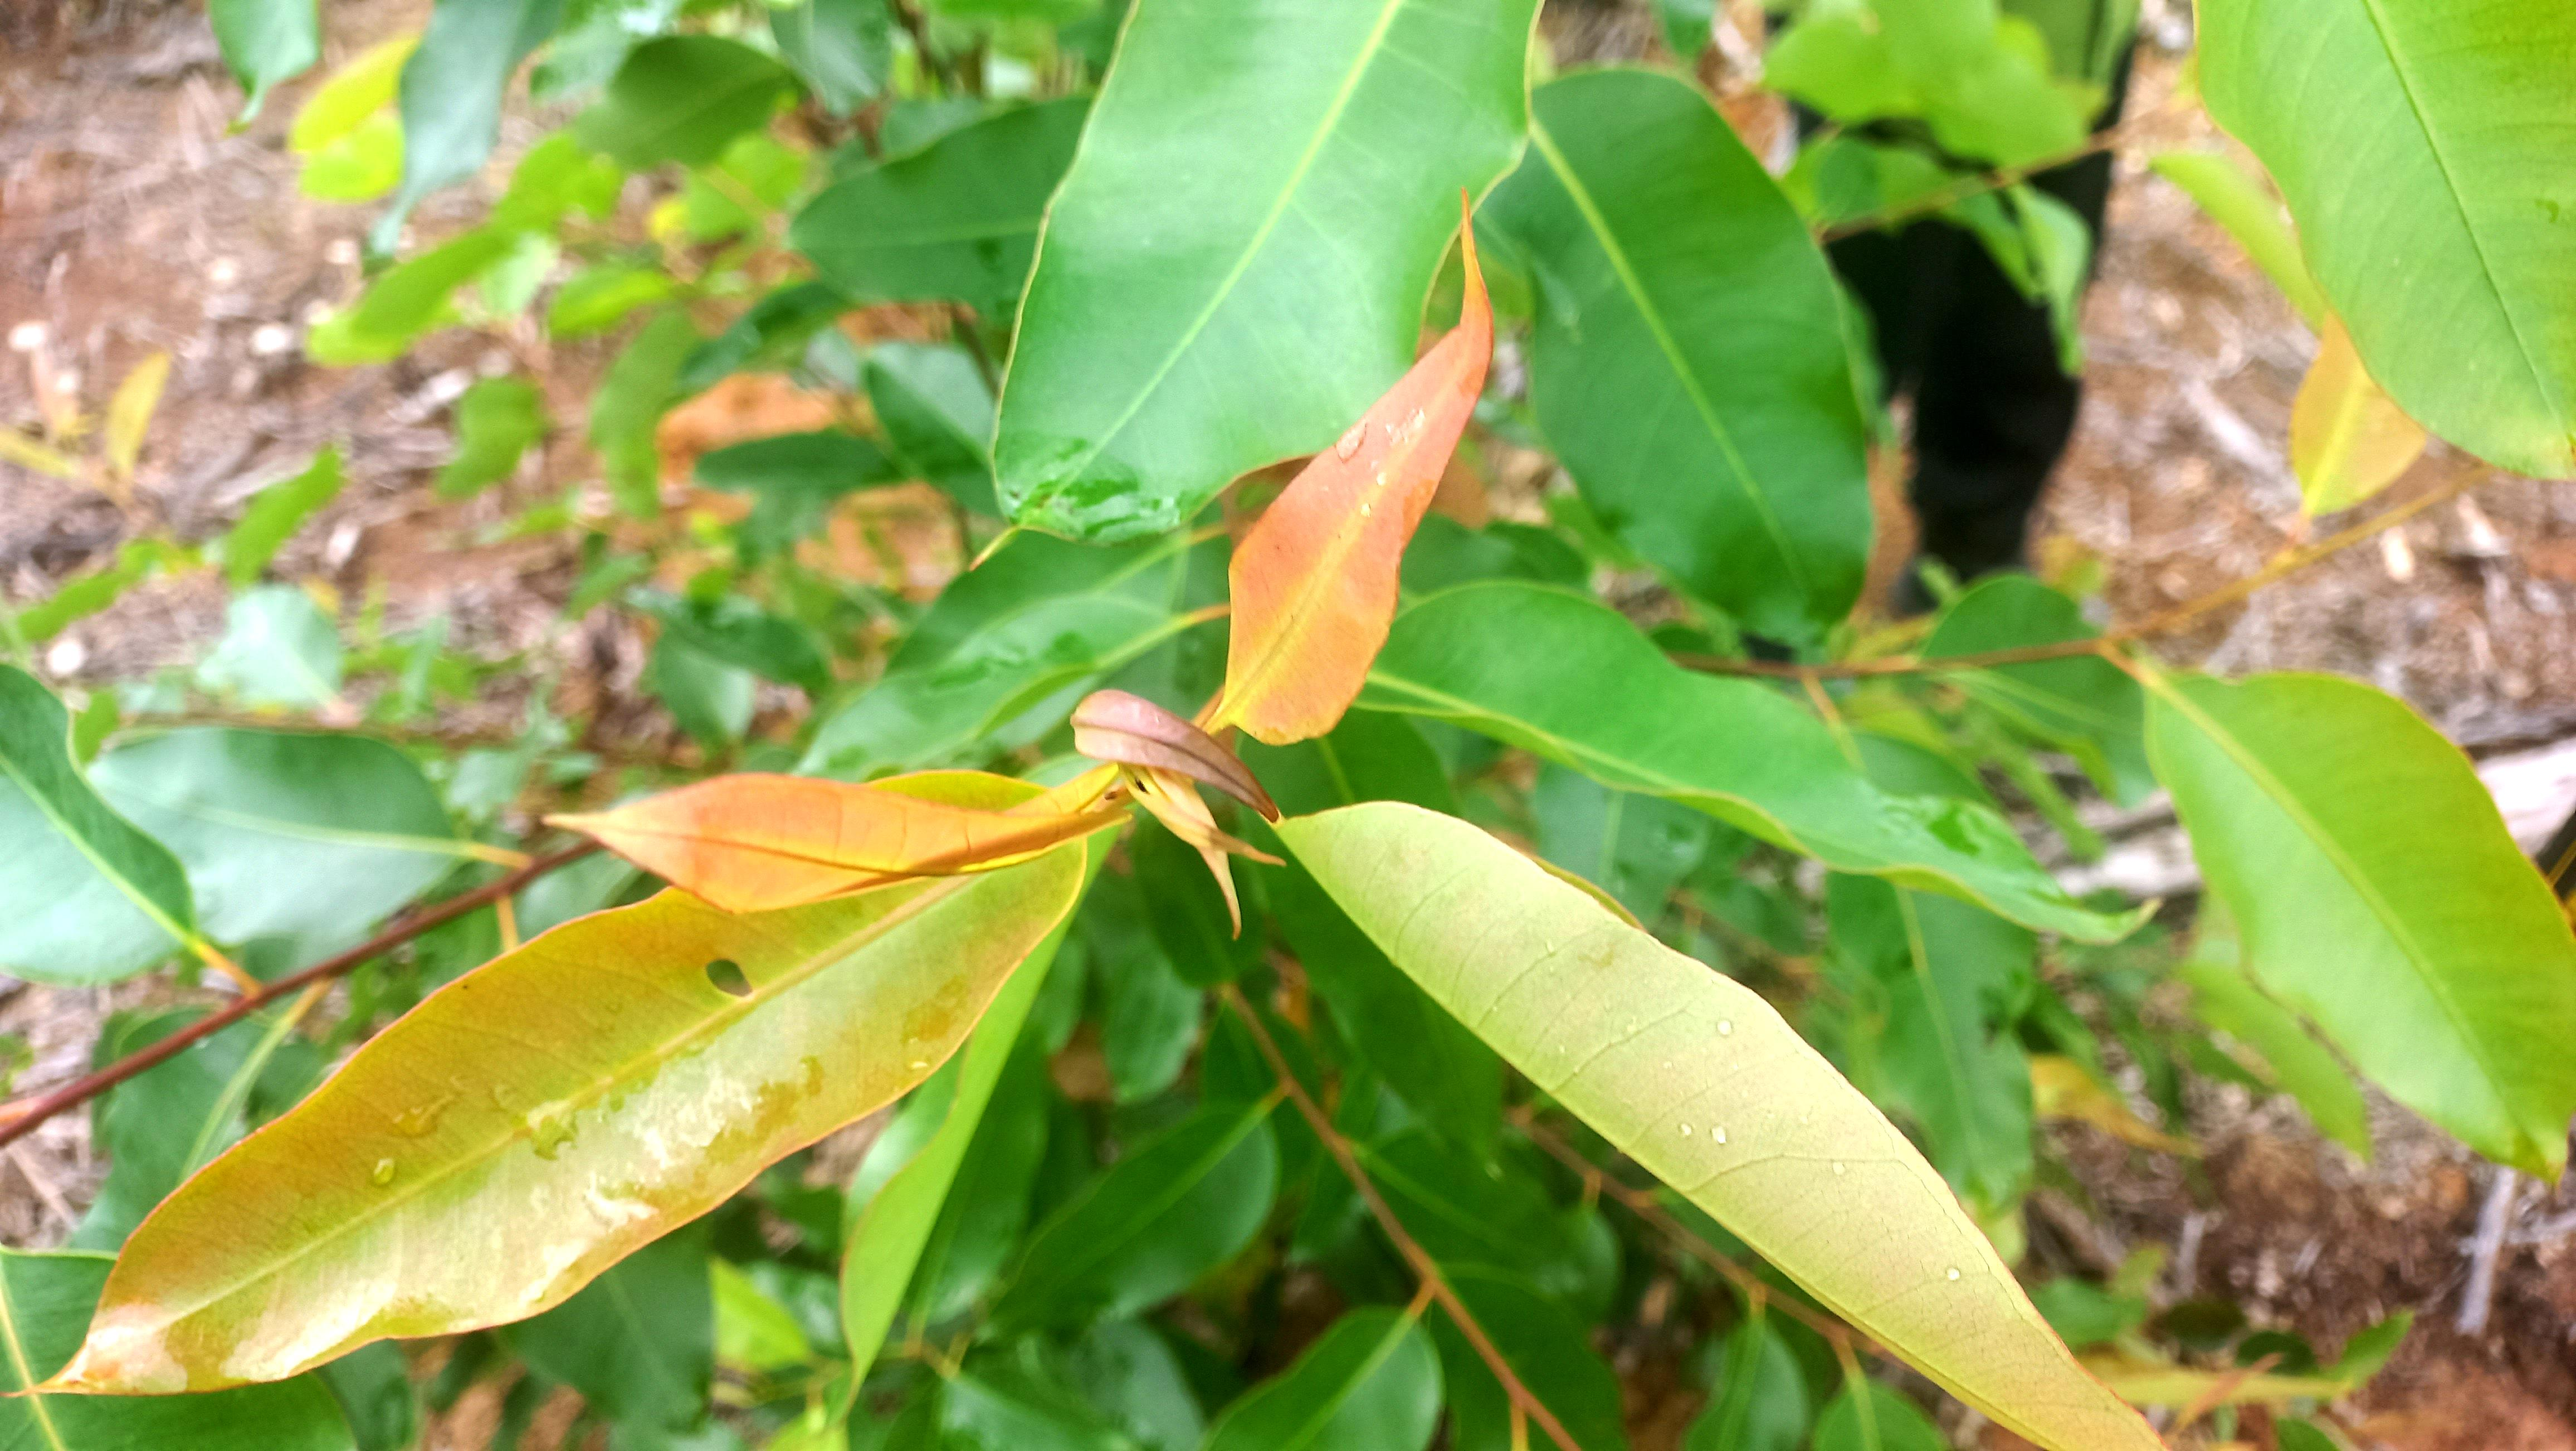Helopeltis-Withered Sprout: (1230, 182, 1493, 662), (538, 772, 1054, 910), (1062, 678, 1283, 823), (1118, 754, 1284, 945)
